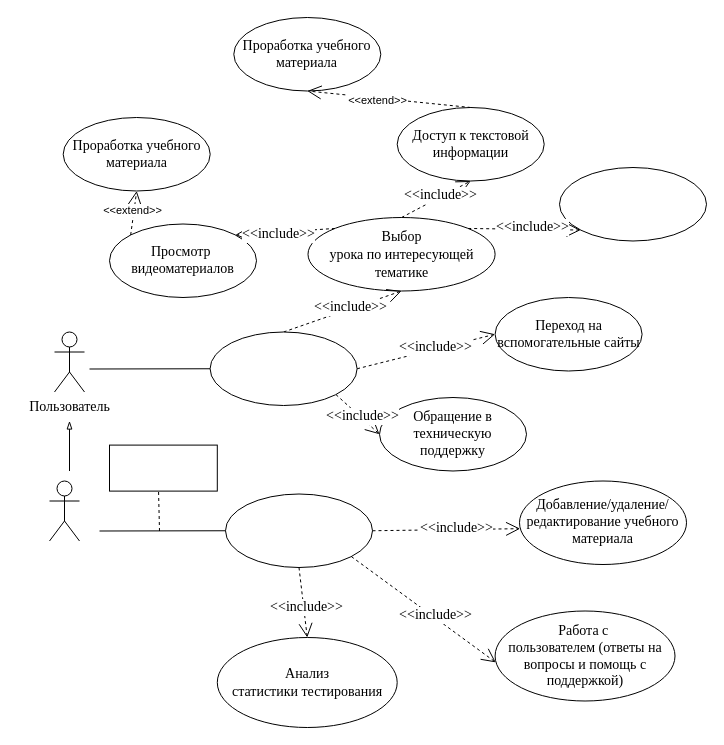
Image size: 724x745. Some labels were removed from this diagram. Each missing label, with the centre of its shape:
"Администратор" belongs at (x=64, y=510).
"Выполнение тестов" belongs at (x=632, y=203).
"Доступна после авторизации" belongs at (x=162, y=467).
"Просмотр сайта" belongs at (x=283, y=368).
"Работа в личном кабинете" belongs at (x=298, y=530).
